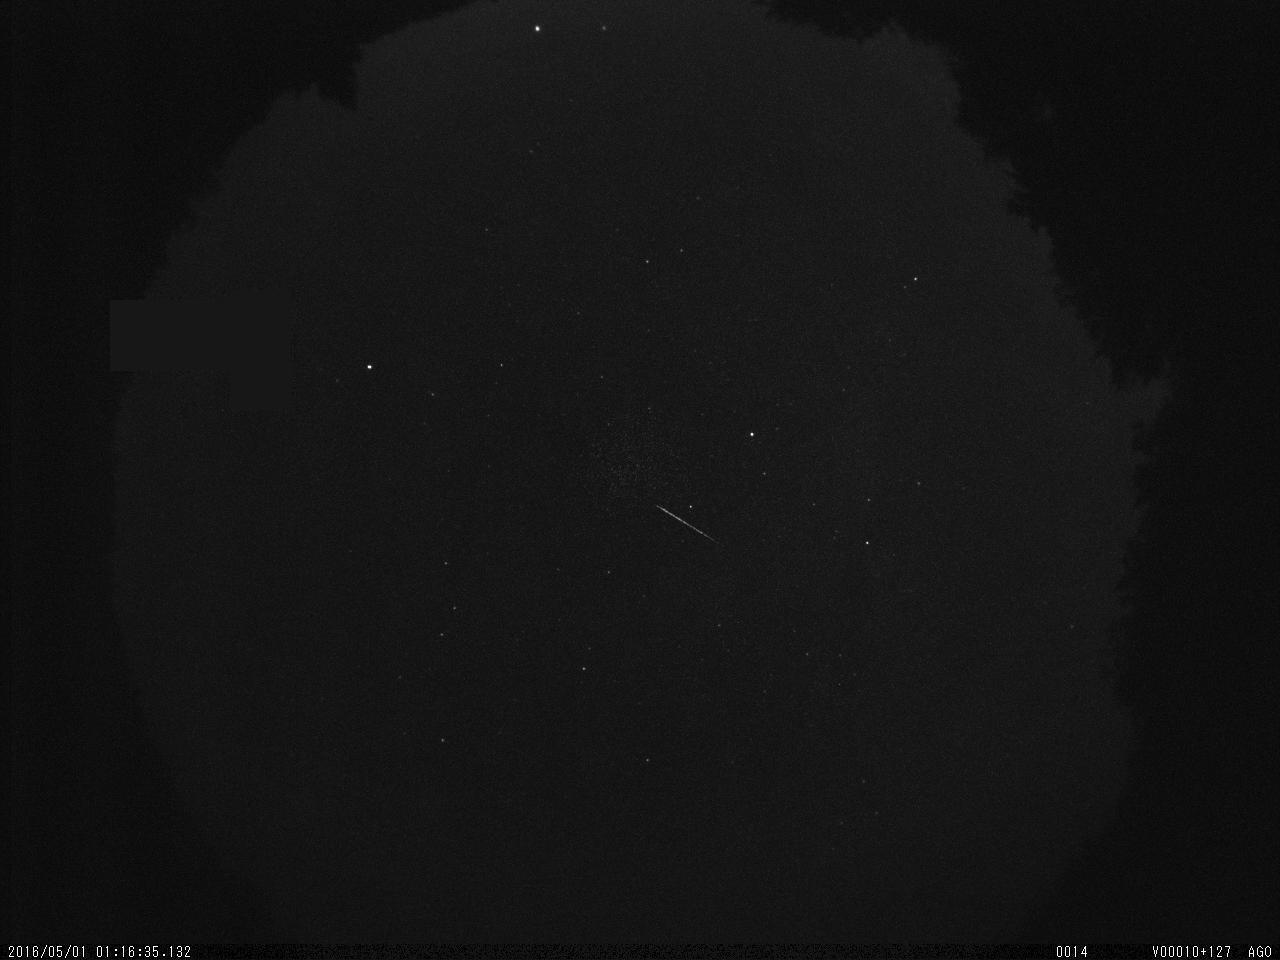meteor: (641, 496, 726, 551)
